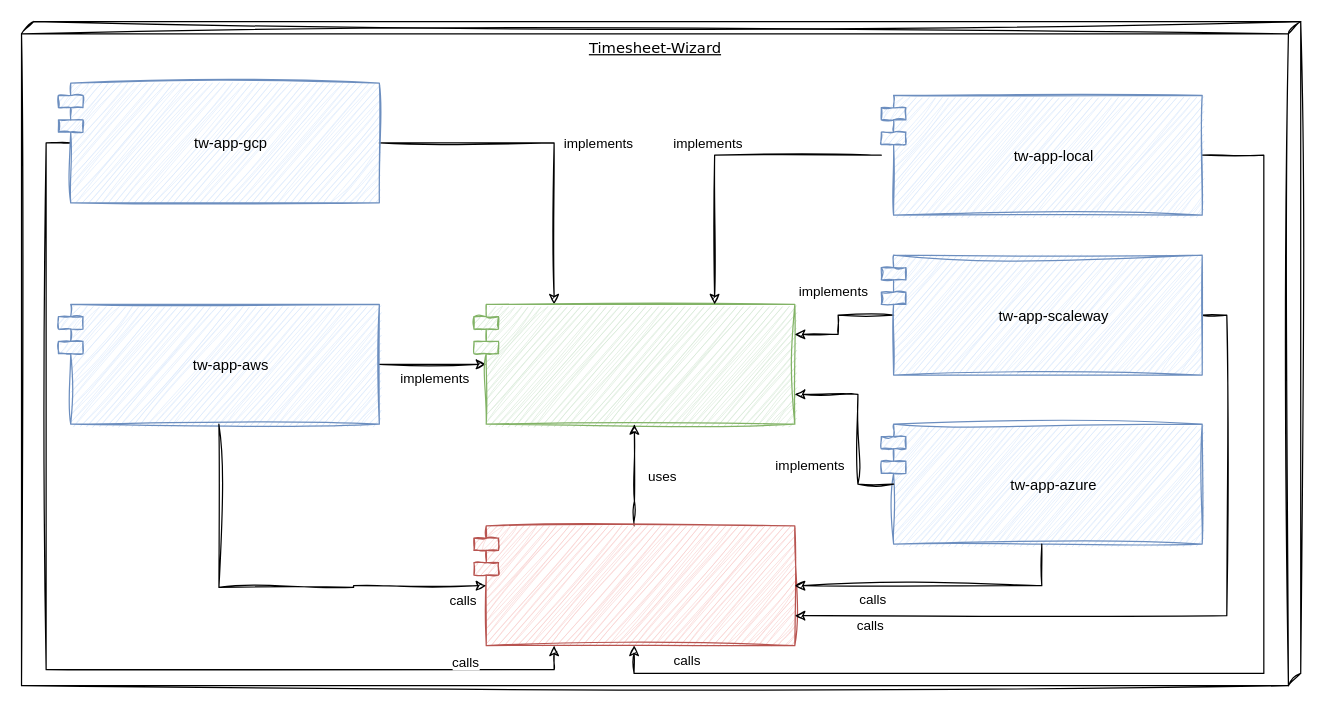
Some shapes in this 1322 by 707 pixel diagram are drawn without their labels. The shapes that lost their labels are listed below. From the top down, each one's centre as x and y in pixels, then its label:
At (x=634, y=363): "tw-spi".
At (x=634, y=585): "tw-core".
